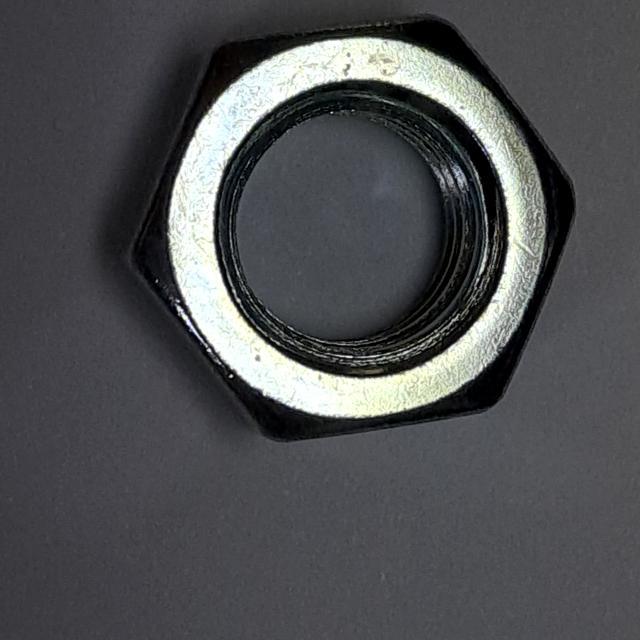Excellent: (109, 2, 588, 460)
